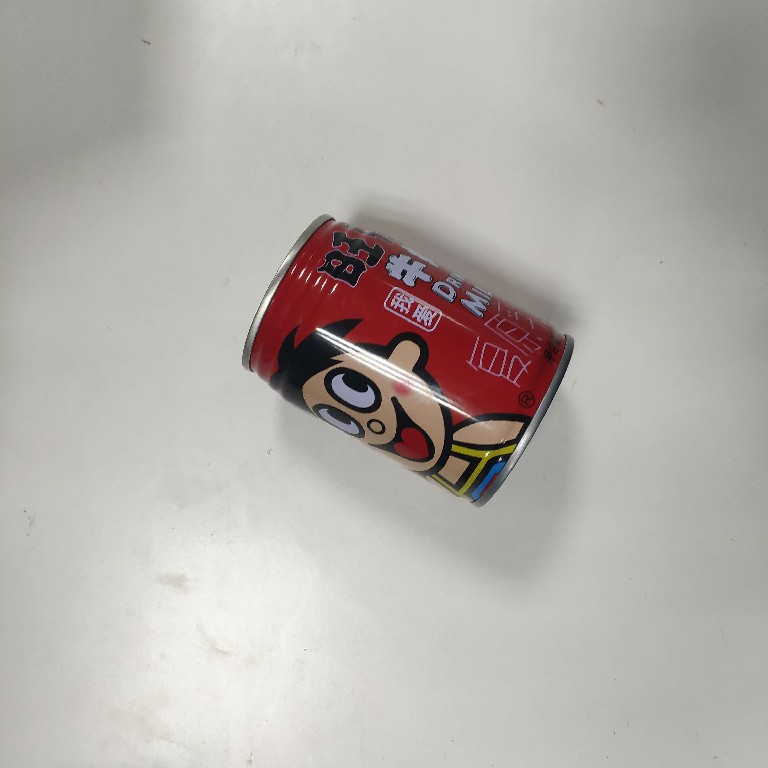can: (236, 211, 577, 509)
